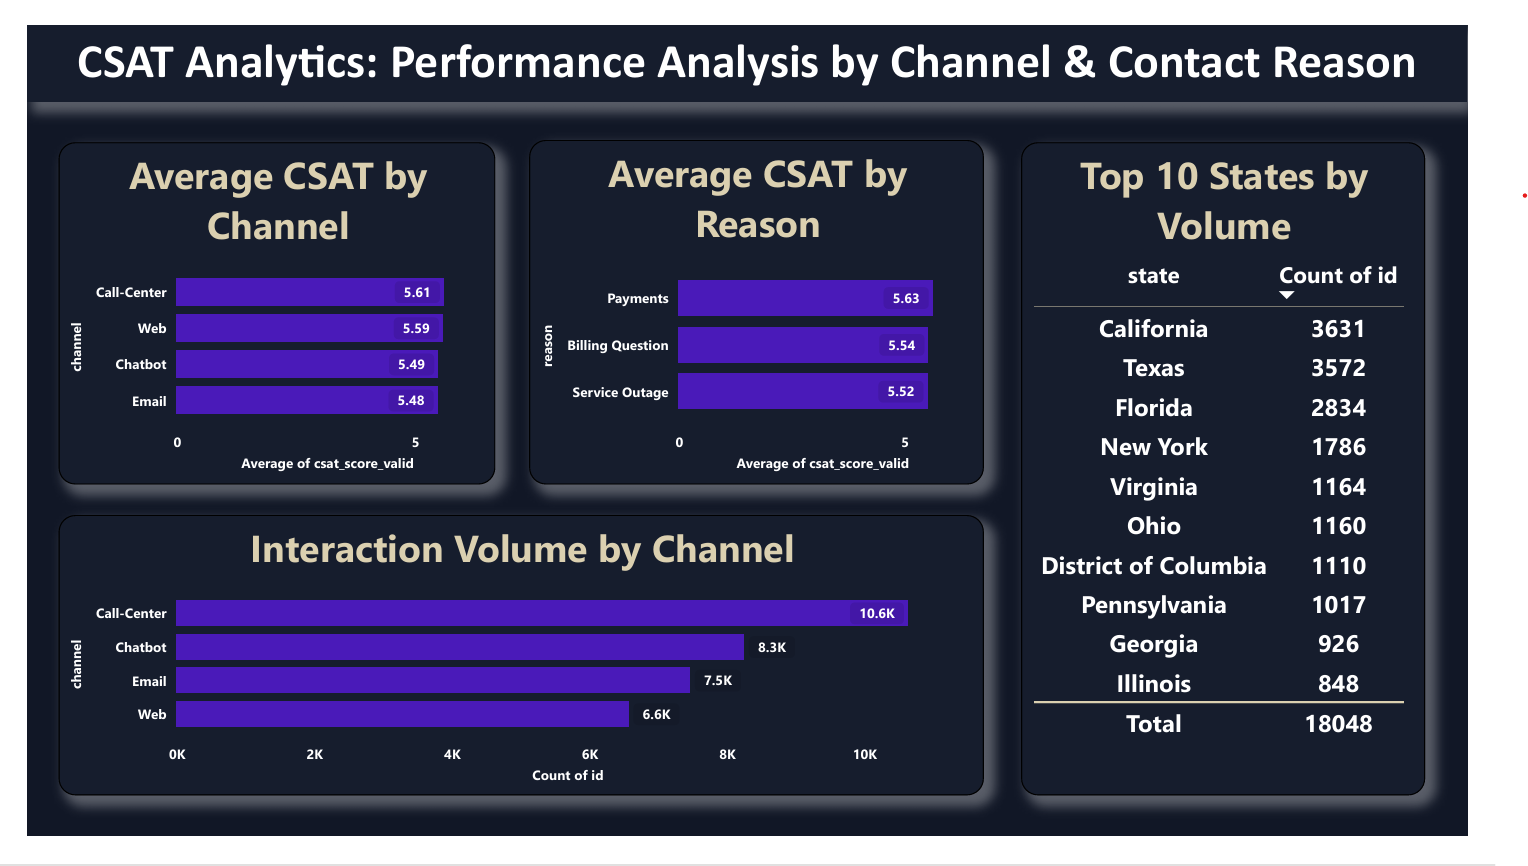

The dashboard page shown, as its layout file describes it:
{"tool":"powerbi","page":{"name":"Channel & Contact Reason Performance","canvas":[1280,720],"ordinal":1},"visuals":[{"type":"clusteredBarChart","title":"Average CSAT by Channel","fields":{"Category":["Table1.channel"],"Y":["Avg(Table1.csat_score_valid)"]},"box":[28.3,103.9,387.4,304.3],"z":0},{"type":"clusteredBarChart","title":"Average CSAT by Reason","fields":{"Category":["Table1.reason"],"Y":["Avg(Table1.csat_score_valid)"]},"box":[446,102,404.4,306.1],"z":1000},{"type":"clusteredBarChart","title":" Interaction Volume by Channel","fields":{"Category":["Table1.channel"],"Y":["CountNonNull(Table1.id)"]},"box":[28.3,434.6,822.1,249.5],"z":2000},{"type":"tableEx","title":"Top 10 States by Volume","fields":{"Values":["Table1.state","Table1.id"]},"box":[882.5,103.9,359.1,580.2],"z":3000},{"type":"textbox","box":[0,0,1279.4,68],"z":4000}]}

Visuals, with their boxes in screenshot pixels (x1, y1, x2, y2), scaled from the page's 1280x720 canvas onto the 1528x866 screenshot:
"Average CSAT by Channel" clusteredBarChart: [34,125,496,491]
"Average CSAT by Reason" clusteredBarChart: [532,123,1015,491]
" Interaction Volume by Channel" clusteredBarChart: [34,523,1015,823]
"Top 10 States by Volume" tableEx: [1053,125,1482,823]
textbox: [0,0,1527,82]
